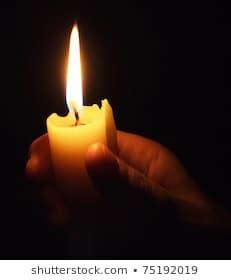fire: (63, 19, 84, 114)
